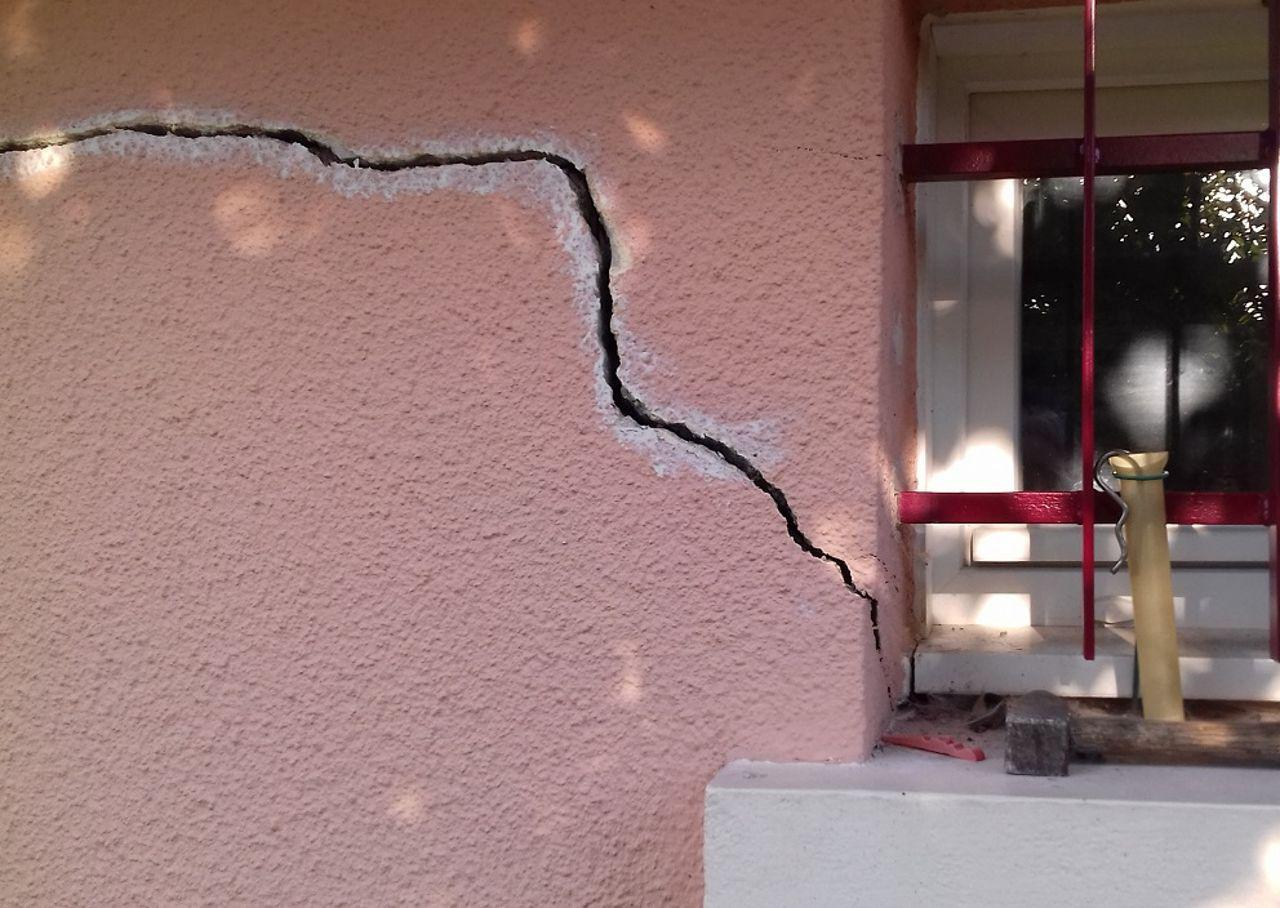crack: (0, 120, 885, 663)
